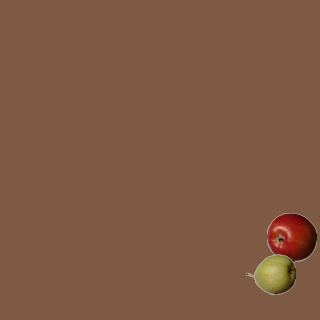Apple Braeburn: (266, 212, 316, 262)
Pear: (245, 249, 295, 299)
